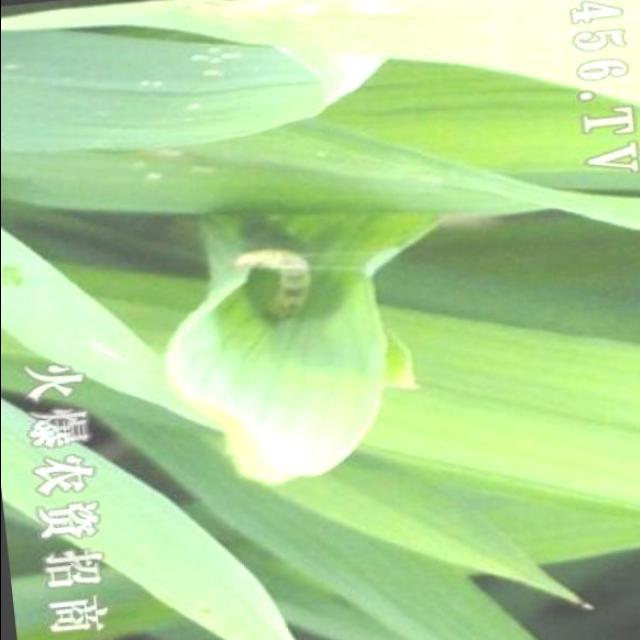leaf folder: (234, 249, 309, 299)
